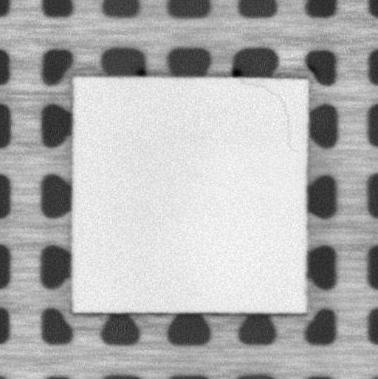DIE_CRACK: (241, 78, 297, 151)
